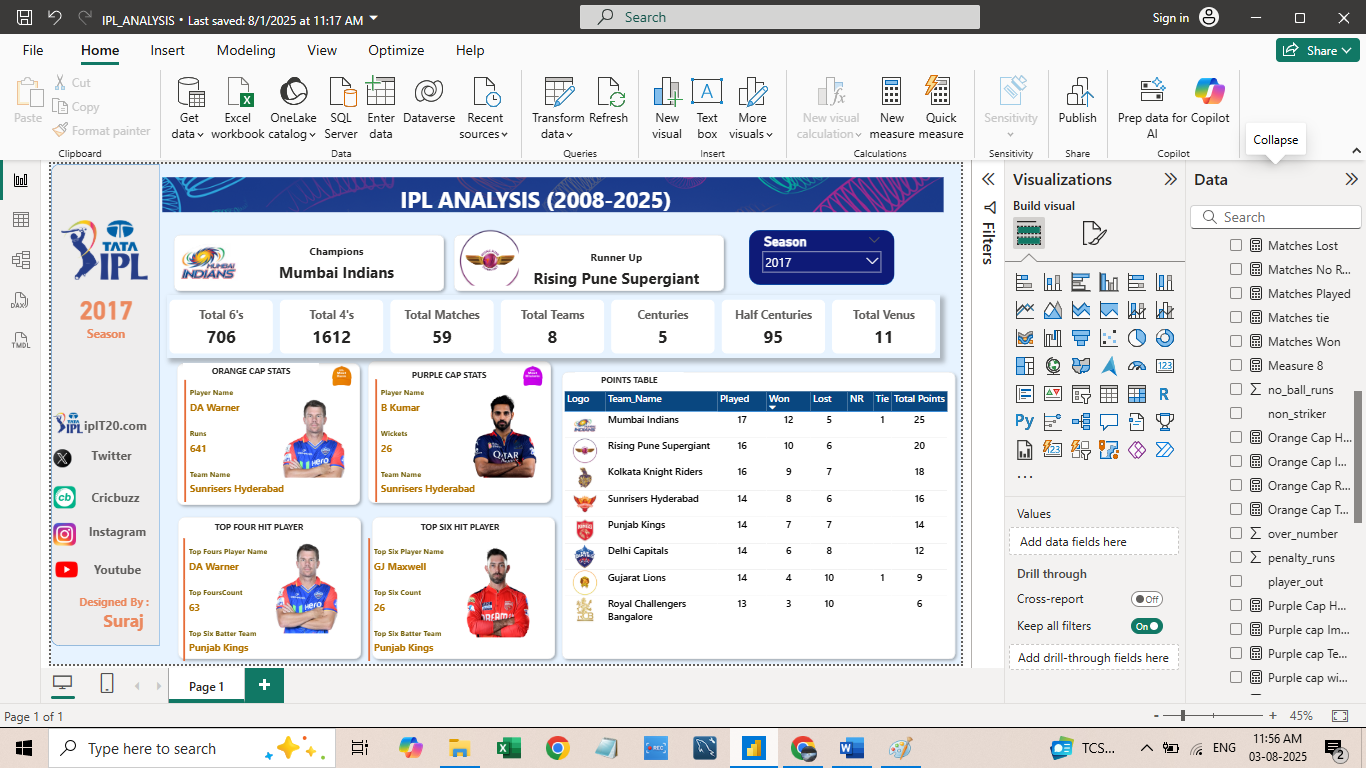

Layout of this report page (visuals, bound fields, positions):
{"tool":"powerbi","page":{"name":"Page 1","canvas":[2000,1100],"ordinal":0},"visuals":[{"type":"shape","box":[1535.4,144.4,320.2,120.7],"z":0},{"type":"shape","box":[1112.9,446.2,887.1,653.5],"z":1000},{"type":"shape","box":[266.2,426.8,424.6,334.4],"z":2000},{"type":"shape","box":[686.4,422.4,424.6,334.4],"z":3000},{"type":"shape","box":[875.6,145.2,616,145.2],"z":4000},{"type":"shape","box":[259.6,145.2,616,145.2],"z":5000},{"type":"image","box":[239.8,22,1729.2,90.2],"z":6000},{"type":"shape","box":[0,0,238.8,1060.4],"z":7000},{"type":"textbox","box":[741.4,39.6,651.2,88],"z":8000},{"type":"slicer","fields":{"Values":["ipl_matches_data.season"]},"box":[1556.4,147,280.8,118.1],"z":9000},{"type":"cardVisual","fields":{"Data":["ipl_matches_data.Season Winner"]},"box":[380.6,158.4,495,118.8],"z":10000},{"type":"cardVisual","fields":{"Data":["ipl_matches_data.Season Winner Logo"]},"box":[259.6,127.6,160.6,154],"z":11000},{"type":"cardVisual","fields":{"Data":["ipl_matches_data.Runner Up"]},"box":[996.6,171.6,495,118.8],"z":12000},{"type":"cardVisual","fields":{"Data":["ball_by_ball_data.Runnerup Logo"]},"box":[875.6,127.6,158.4,145.2],"z":13000},{"type":"cardVisual","fields":{"Data":["ball_by_ball_data.Total 6's","ball_by_ball_data.Total 4's","ball_by_ball_data.Total Matches","ball_by_ball_data.Total Teams","ball_by_ball_data.Centuries","ball_by_ball_data.Half Centuries","ball_by_ball_data.Total Venus"]},"box":[254.6,288.7,1700.8,139.1],"z":14000},{"type":"cardVisual","fields":{"Data":["ball_by_ball_data.Orange Cap Holder","ball_by_ball_data.Orange Cap Runs","ball_by_ball_data.Orange Cap Team Name"]},"box":[288.2,468.6,341,281.6],"z":15000},{"type":"textbox","box":[290.4,437.8,299.2,37.4],"z":16000},{"type":"cardVisual","fields":{"Data":["ball_by_ball_data.Orange Cap Image"]},"box":[457.6,495,250.8,200.2],"z":17000},{"type":"image","box":[589.6,437.8,101.2,57.2],"z":18000},{"type":"shape","box":[268.4,765.6,424.6,334.4],"z":19000},{"type":"shape","box":[695.2,765.6,424.6,334.4],"z":20000},{"type":"cardVisual","fields":{"Data":["ball_by_ball_data.Purple Cap Holder","ball_by_ball_data.Purple cap wicket","ball_by_ball_data.Purple cap Team"]},"box":[708.4,468.6,341,281.6],"z":21000},{"type":"textbox","box":[726,446.6,299.2,37.4],"z":22000},{"type":"cardVisual","fields":{"Data":["ball_by_ball_data.Purple cap Image"]},"box":[871.2,484,250.8,211.2],"z":23000},{"type":"image","box":[1009.8,437.8,101.2,57.2],"z":24000},{"type":"cardVisual","fields":{"Data":["ball_by_ball_data.Top Fours Player Name","ball_by_ball_data.Top FoursCount","ball_by_ball_data.Top Fours Batter Team"]},"box":[286,818.4,244.2,281.6],"z":25000},{"type":"textbox","box":[308,781,299.2,37.4],"z":26000},{"type":"cardVisual","fields":{"Data":["ball_by_ball_data.Top Fours Player Image"]},"box":[442.2,809.6,250.8,246.4],"z":27000},{"type":"cardVisual","fields":{"Data":["ball_by_ball_data.Top Six Player Name","ball_by_ball_data.Top Six Count","ball_by_ball_data.Top Six Batter Team"]},"box":[693,818.4,244.2,281.6],"z":28000},{"type":"textbox","box":[750.2,781,299.2,37.4],"z":29000},{"type":"cardVisual","fields":{"Data":["ball_by_ball_data.Top Six Player Image"]},"box":[860.2,818.4,250.8,246.4],"z":30000},{"type":"tableEx","fields":{"Values":["teams_data.image_url","teams_data.team_name","ball_by_ball_data.Matches Played","ball_by_ball_data.Matches Won","ball_by_ball_data.Matches Lost","ball_by_ball_data.Matches No Result","ball_by_ball_data.Matches tie","ball_by_ball_data.Total Points"]},"box":[1123.4,496.1,876.6,593.2],"z":31000},{"type":"textbox","box":[1152.2,456.7,238.8,39.4],"z":32000},{"type":"image","box":[0,519.7,75,100],"z":33000},{"type":"card","fields":{"Values":["ball_by_ball_data.Season"]},"box":[47.2,265.1,149.6,136.5],"z":34000},{"type":"actionButton","box":[47.2,530.2,191.6,89.2],"z":35000},{"type":"image","box":[18.4,39.4,200,299.2],"z":36000},{"type":"image","box":[0,608.9,50,76.1],"z":37000},{"type":"actionButton","box":[36.7,595.8,191.6,89.2],"z":38000},{"type":"image","box":[0,695.5,60,75],"z":39000},{"type":"actionButton","box":[47.2,687.7,191.6,89.2],"z":40000},{"type":"image","box":[0,776.9,60.4,76.1],"z":41000},{"type":"actionButton","box":[49.9,763.8,191.6,89.2],"z":42000},{"type":"image","box":[5.2,853,60.4,76.1],"z":43000},{"type":"actionButton","box":[49.9,847.8,191.6,89.2],"z":44000},{"type":"textbox","box":[57.7,942.3,168,126],"z":45000}]}

Visuals, with their boxes on the page's 2000x1100 design canvas (x1, y1, x2, y2). These are canvas units, not pixel positions in the 1366x768 screenshot, which may show the page scaled, cropped or inside an application window:
shape: bbox=(1535, 144, 1856, 265)
shape: bbox=(1113, 446, 2000, 1100)
shape: bbox=(266, 427, 691, 761)
shape: bbox=(686, 422, 1111, 757)
shape: bbox=(876, 145, 1492, 290)
shape: bbox=(260, 145, 876, 290)
image: bbox=(240, 22, 1969, 112)
shape: bbox=(0, 0, 239, 1060)
textbox: bbox=(741, 40, 1393, 128)
slicer - ipl_matches_data.season: bbox=(1556, 147, 1837, 265)
cardVisual - ipl_matches_data.Season Winner: bbox=(381, 158, 876, 277)
cardVisual - ipl_matches_data.Season Winner Logo: bbox=(260, 128, 420, 282)
cardVisual - ipl_matches_data.Runner Up: bbox=(997, 172, 1492, 290)
cardVisual - ball_by_ball_data.Runnerup Logo: bbox=(876, 128, 1034, 273)
cardVisual - ball_by_ball_data.Total 6's x ball_by_ball_data.Total 4's: bbox=(255, 289, 1955, 428)
cardVisual - ball_by_ball_data.Orange Cap Holder x ball_by_ball_data.Orange Cap Runs: bbox=(288, 469, 629, 750)
textbox: bbox=(290, 438, 590, 475)
cardVisual - ball_by_ball_data.Orange Cap Image: bbox=(458, 495, 708, 695)
image: bbox=(590, 438, 691, 495)
shape: bbox=(268, 766, 693, 1100)
shape: bbox=(695, 766, 1120, 1100)
cardVisual - ball_by_ball_data.Purple Cap Holder x ball_by_ball_data.Purple cap wicket: bbox=(708, 469, 1049, 750)
textbox: bbox=(726, 447, 1025, 484)
cardVisual - ball_by_ball_data.Purple cap Image: bbox=(871, 484, 1122, 695)
image: bbox=(1010, 438, 1111, 495)
cardVisual - ball_by_ball_data.Top Fours Player Name x ball_by_ball_data.Top FoursCount: bbox=(286, 818, 530, 1100)
textbox: bbox=(308, 781, 607, 818)
cardVisual - ball_by_ball_data.Top Fours Player Image: bbox=(442, 810, 693, 1056)
cardVisual - ball_by_ball_data.Top Six Player Name x ball_by_ball_data.Top Six Count: bbox=(693, 818, 937, 1100)
textbox: bbox=(750, 781, 1049, 818)
cardVisual - ball_by_ball_data.Top Six Player Image: bbox=(860, 818, 1111, 1065)
tableEx - teams_data.image_url x teams_data.team_name: bbox=(1123, 496, 2000, 1089)
textbox: bbox=(1152, 457, 1391, 496)
image: bbox=(0, 520, 75, 620)
card - ball_by_ball_data.Season: bbox=(47, 265, 197, 402)
actionButton: bbox=(47, 530, 239, 619)
image: bbox=(18, 39, 218, 339)
image: bbox=(0, 609, 50, 685)
actionButton: bbox=(37, 596, 228, 685)
image: bbox=(0, 696, 60, 770)
actionButton: bbox=(47, 688, 239, 777)
image: bbox=(0, 777, 60, 853)
actionButton: bbox=(50, 764, 242, 853)
image: bbox=(5, 853, 66, 929)
actionButton: bbox=(50, 848, 242, 937)
textbox: bbox=(58, 942, 226, 1068)
